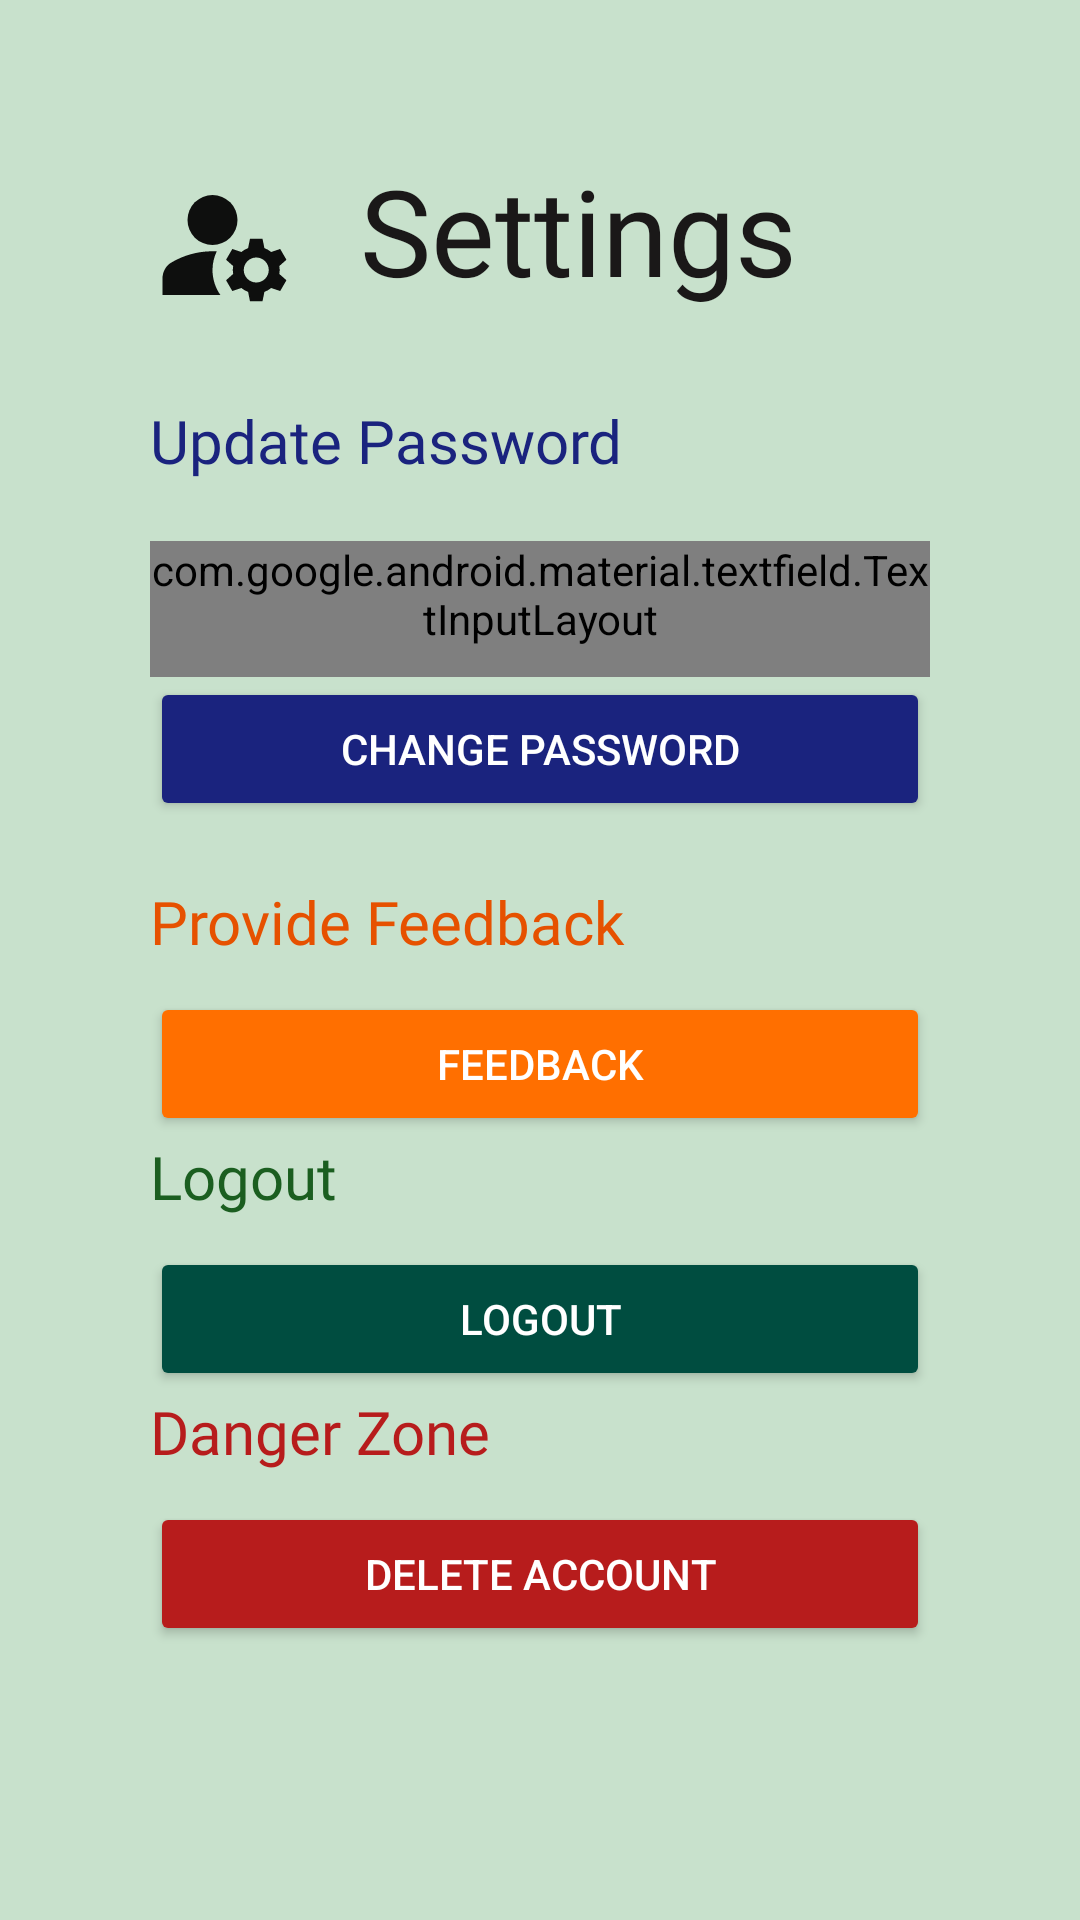

Icons on this 1080*1920 Android screen, each with its box as bbox=(x1, y1, x2, y2):
manage account: bbox=(162, 195, 287, 302)
